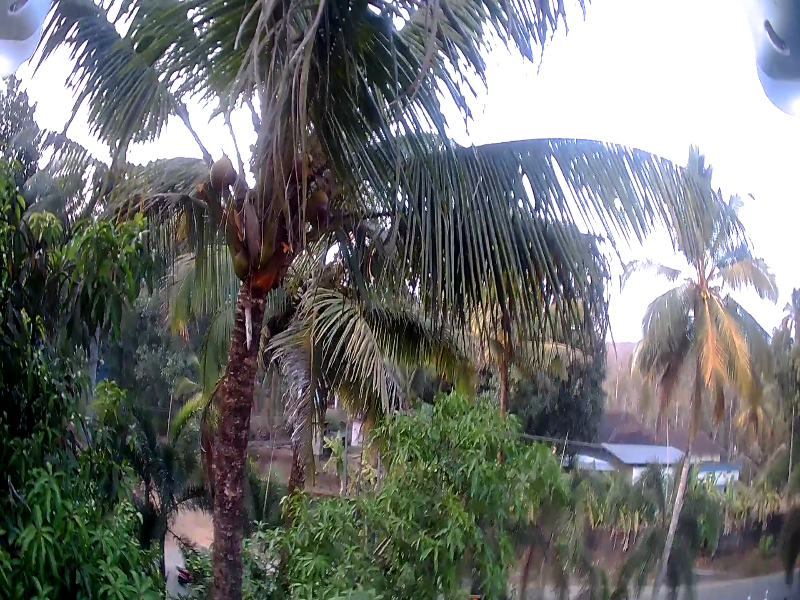coconut: (208, 152, 239, 195), (313, 190, 327, 208)
